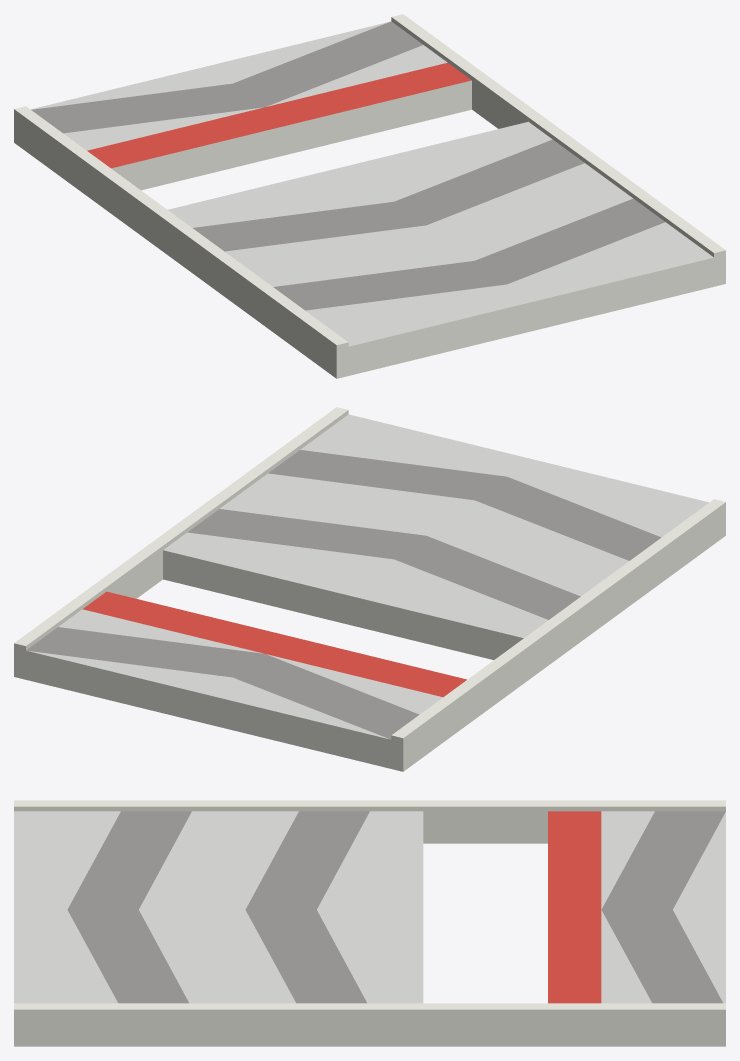
File: platform_empty_2.fbx
3 views of the same model, one above another, from view 1: azimuth 30°, elevation 25°; view 2: azimuth 150°, elevation 25°; view 3: azimuth 270°, elevation 25° (orthographic). The views are drawn at different scales.
Parts seen in each view (by area): view 1: Platform.empty, Platform.line; view 2: Platform.empty, Platform.line; view 3: Platform.empty, Platform.line.
Part boxes in pixels (<box>): Platform.empty: <box>14,14,725,378</box>; Platform.line: <box>87,62,471,168</box>; Platform.empty: <box>14,407,725,771</box>; Platform.line: <box>82,591,466,697</box>; Platform.empty: <box>14,800,725,1046</box>; Platform.line: <box>548,811,601,1003</box>.
Size of the model in its own units: 27.84 by 2.3 by 39.98.
Materials: 2 (1 with a texture image).
